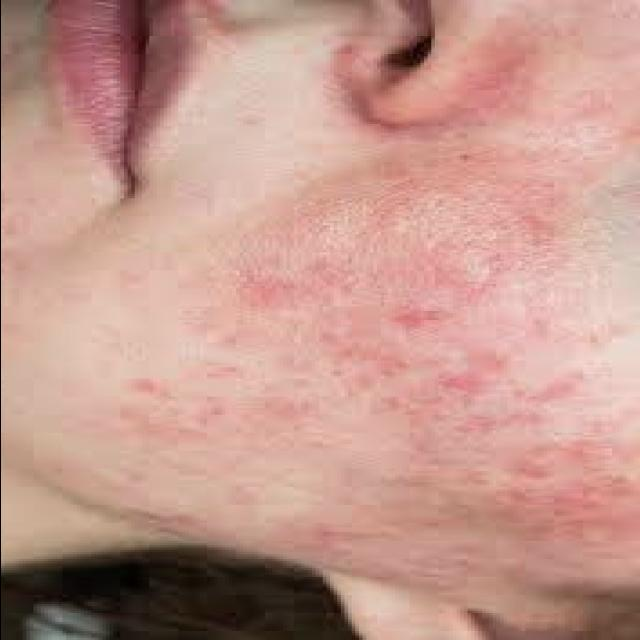Acne: (440, 350, 505, 400), (234, 268, 300, 312), (556, 436, 632, 471), (386, 298, 454, 336), (450, 411, 544, 437), (503, 456, 564, 488), (506, 211, 564, 243), (120, 372, 176, 398)
